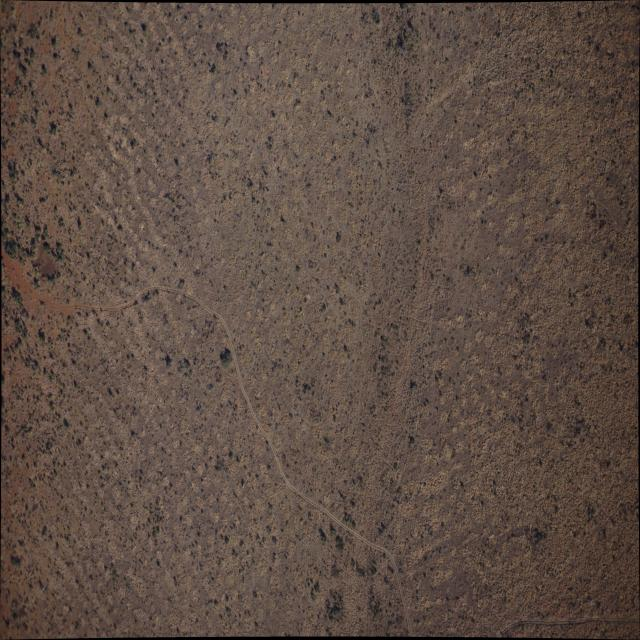elephant: (242, 481, 246, 489)
